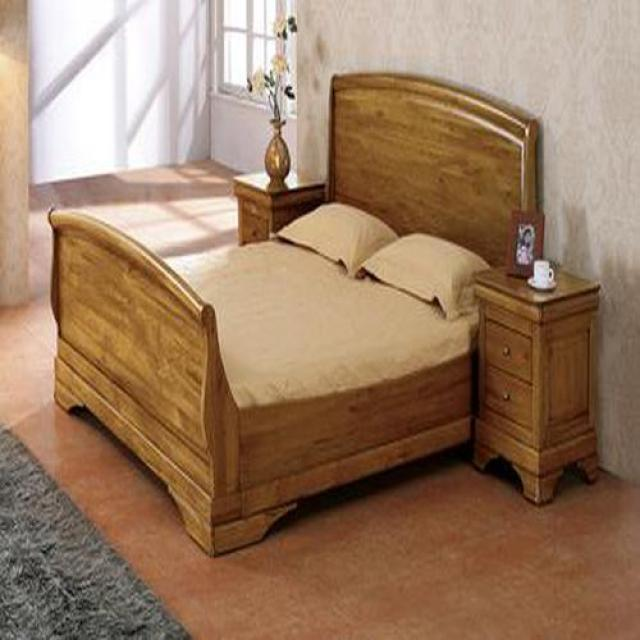bed: (54, 74, 531, 558)
